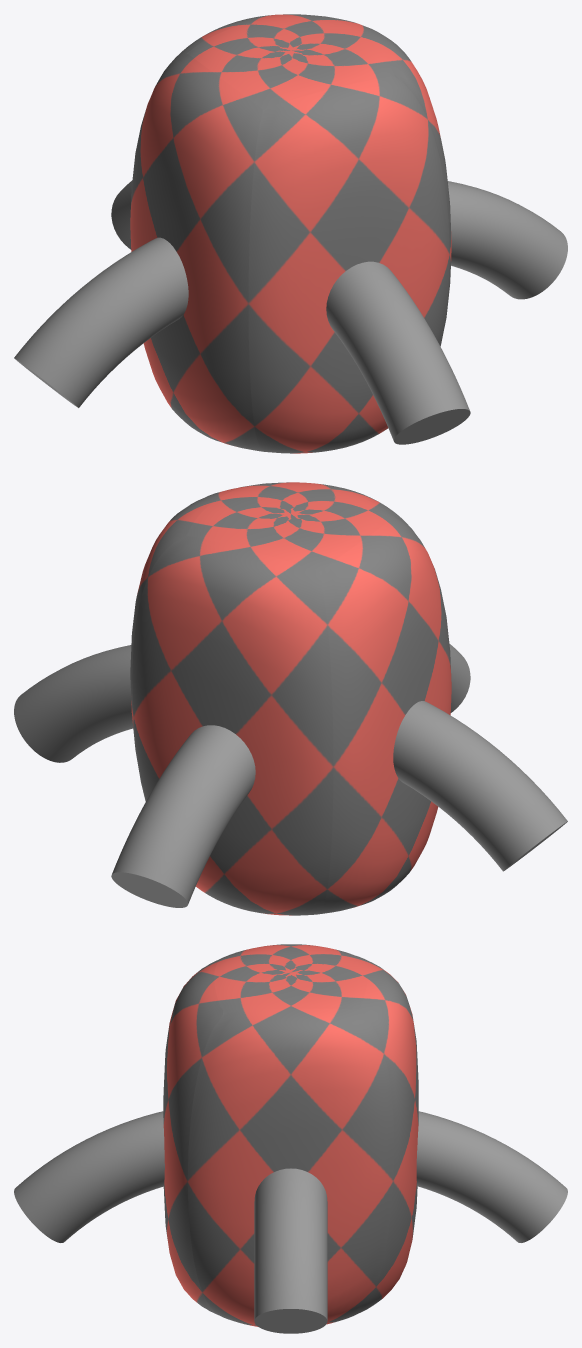
The model's file is Body(Oblong)+Colour(More_Red)+Pattern(Diamond)+Arm_Angle(Bent_Down).fbx.
3 views of the same model, one above another, from view 1: azimuth 30°, elevation 25°; view 2: azimuth 150°, elevation 25°; view 3: azimuth 270°, elevation 25° (orthographic). The views are drawn at different scales.
Visible parts, largest first — view 1: Body(Oblong)+Colour(More_Red)+Pattern(Diamond)+Arm_Angle(Ben (×5); view 2: Body(Oblong)+Colour(More_Red)+Pattern(Diamond)+Arm_Angle(Ben (×5); view 3: Body(Oblong)+Colour(More_Red)+Pattern(Diamond)+Arm_Angle(Ben (×4).
Boxes of the visible parts, x1,y1,x2,y2 form: Body(Oblong)+Colour(More_Red)+Pattern(Diamond)+Arm_Angle(Ben (×5): (14, 14, 567, 453); Body(Oblong)+Colour(More_Red)+Pattern(Diamond)+Arm_Angle(Ben (×5): (14, 482, 567, 915); Body(Oblong)+Colour(More_Red)+Pattern(Diamond)+Arm_Angle(Ben (×4): (14, 944, 567, 1333).
Bounding box in the file's own units: 60.67 × 40 × 60.67.
Materials: 2 (1 with a texture image).
